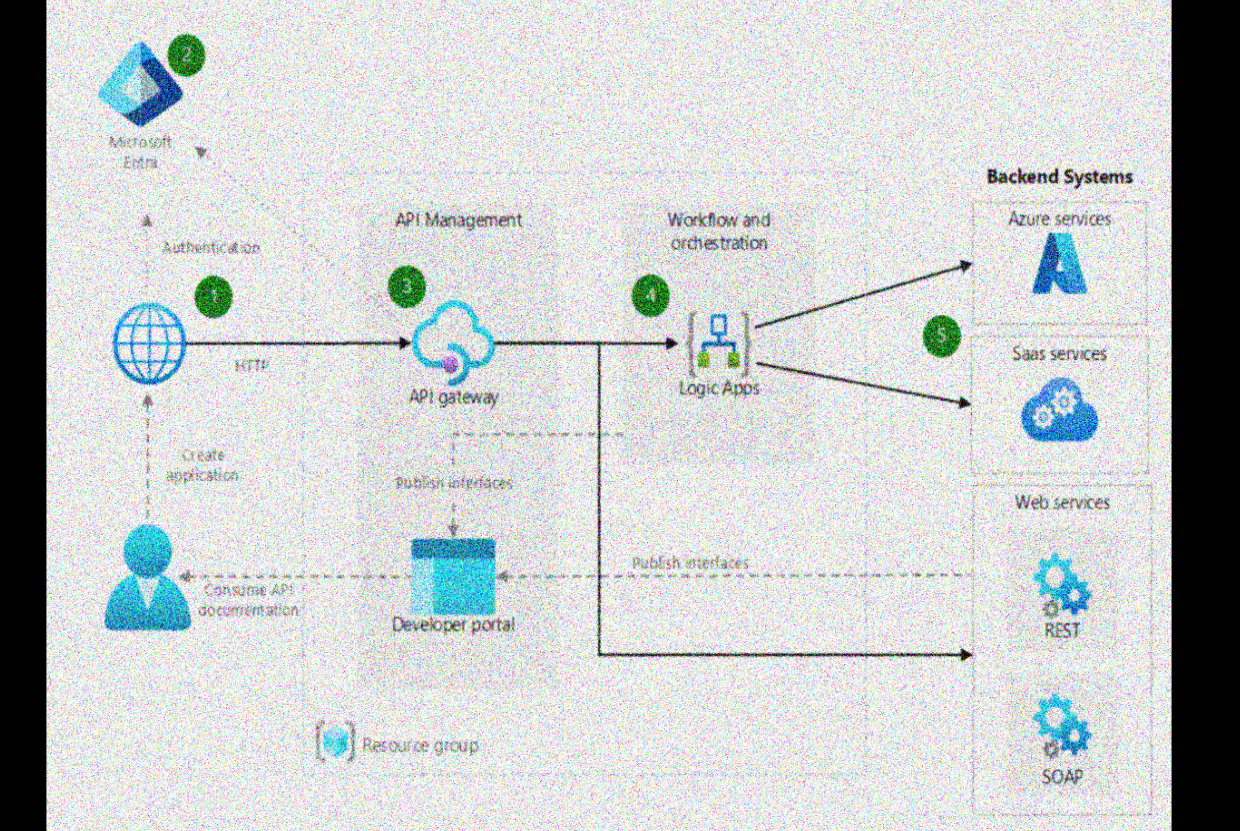api: (1029, 690, 1098, 790), (1027, 549, 1097, 642)
azure_services: (1002, 206, 1118, 300)
developer_portal: (405, 533, 496, 614)
logic_apps: (683, 301, 751, 378)
microsoft_entra: (92, 37, 187, 127), (409, 299, 496, 387)
resource_group: (109, 300, 187, 385), (311, 714, 357, 763)
sass_services: (1011, 370, 1106, 446)
user: (101, 524, 191, 632)
